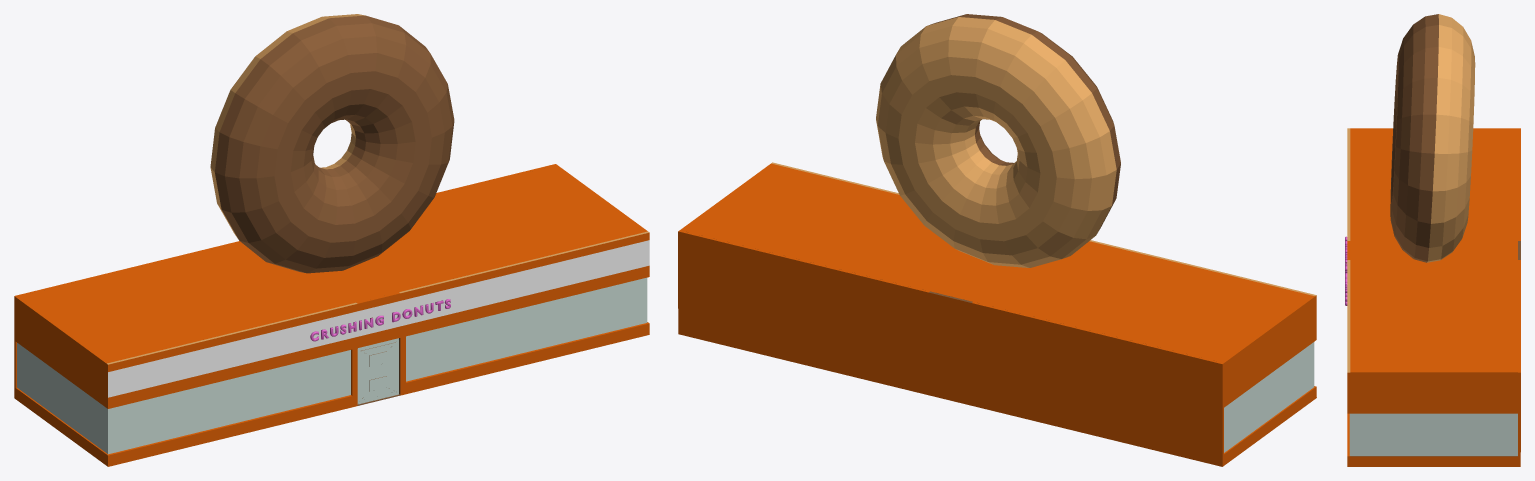
The model's file is Cafe1.fbx.
3 views of the same model, side by side, from view 1: azimuth 30°, elevation 25°; view 2: azimuth 150°, elevation 25°; view 3: azimuth 270°, elevation 25° (orthographic). The views are drawn at different scales.
Parts seen in each view (by area): view 1: Crushing Donuts; view 2: Crushing Donuts; view 3: Crushing Donuts.
Part boxes in pixels (<box>): Crushing Donuts: <box>14,14,649,466</box>; Crushing Donuts: <box>678,14,1316,466</box>; Crushing Donuts: <box>1345,14,1520,466</box>.
Bounding box in the file's own units: 5000 × 3056 × 1521.
